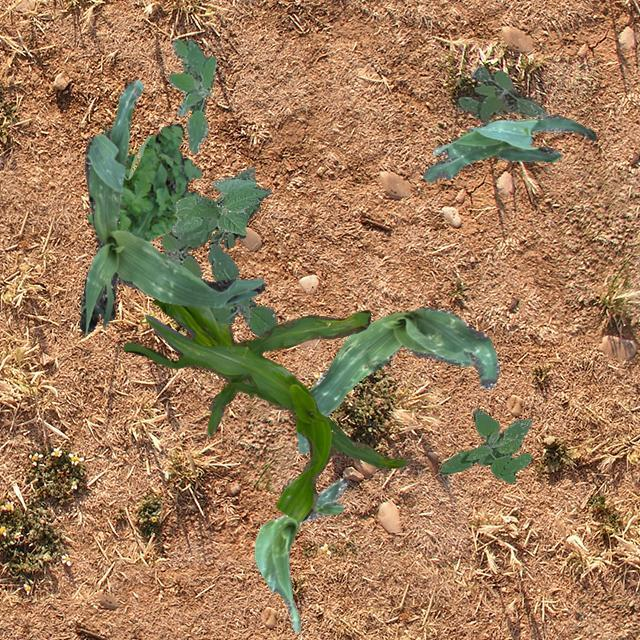crop: (122, 298, 406, 520), (78, 79, 264, 334), (295, 306, 499, 454), (254, 476, 348, 632), (422, 114, 594, 180), (172, 176, 270, 233)
weed: (160, 166, 276, 336), (86, 122, 200, 240), (439, 408, 532, 482), (168, 37, 215, 152), (456, 66, 548, 122)
